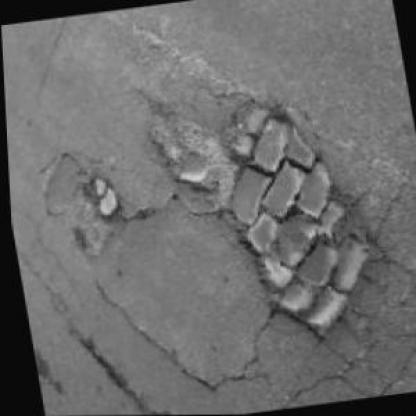pothole: (205, 86, 390, 349), (140, 108, 232, 203), (78, 172, 120, 220)
